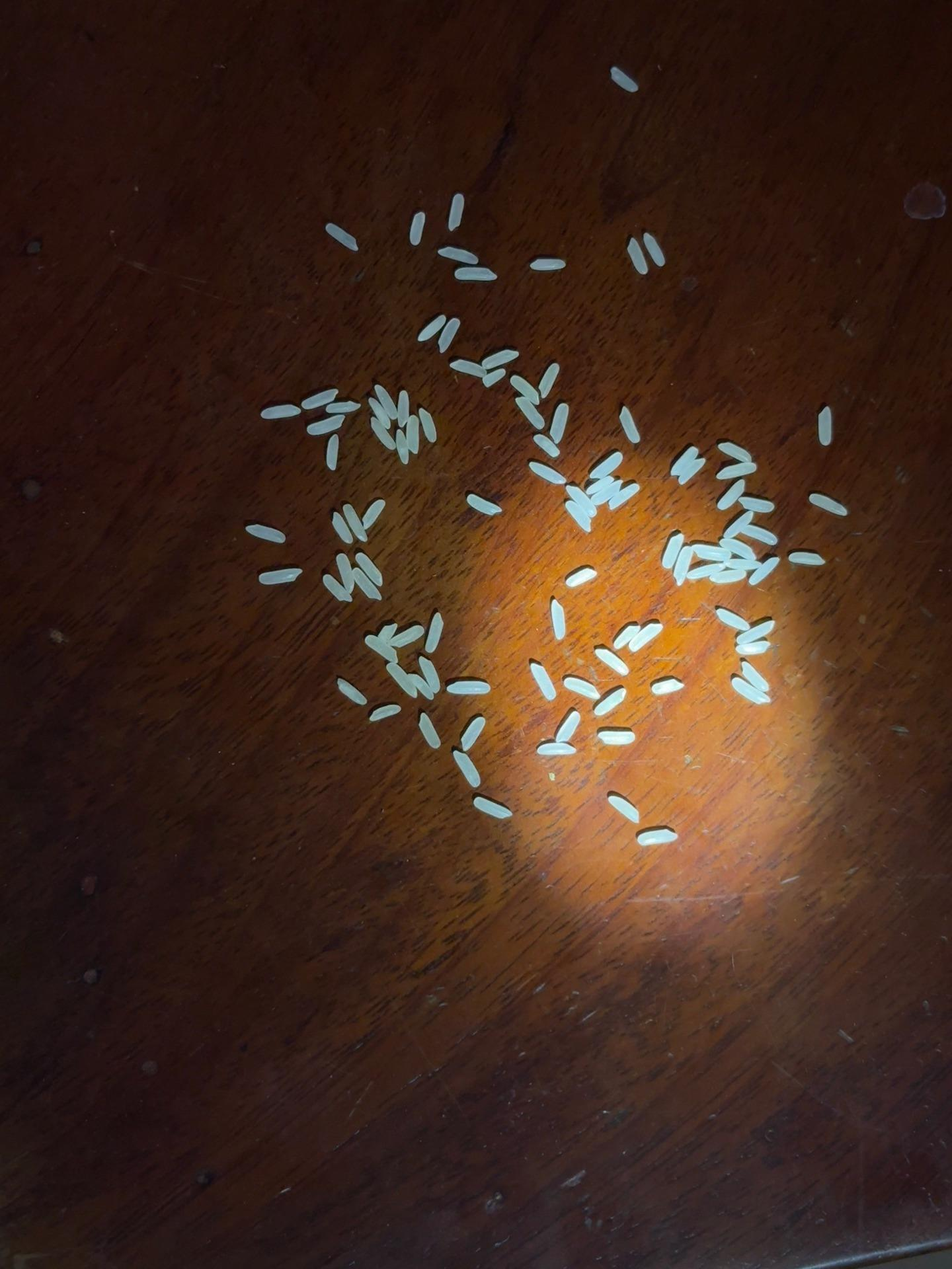Rice-th-y-nh: (387, 663, 417, 698), (453, 750, 481, 787), (530, 663, 557, 700), (566, 485, 597, 517), (629, 623, 663, 652), (733, 678, 770, 704), (326, 223, 359, 252), (365, 635, 399, 663), (342, 504, 367, 542), (736, 621, 775, 645), (516, 397, 545, 429), (590, 452, 623, 480), (672, 546, 695, 586), (595, 648, 629, 675), (510, 375, 540, 405), (353, 569, 382, 600), (594, 689, 627, 716), (356, 553, 383, 586), (749, 557, 780, 585), (718, 479, 746, 510), (723, 511, 754, 539), (741, 661, 769, 692), (418, 657, 442, 693), (809, 494, 848, 516), (625, 238, 648, 275), (720, 538, 757, 561), (461, 717, 486, 751), (323, 574, 352, 603), (374, 385, 398, 420), (670, 447, 698, 477), (608, 796, 639, 823), (474, 797, 512, 819), (418, 713, 441, 749), (564, 677, 600, 700), (555, 711, 580, 744), (609, 484, 640, 510), (425, 613, 445, 653), (643, 232, 666, 266), (337, 679, 367, 705), (550, 404, 570, 443), (336, 554, 356, 593), (308, 415, 345, 436), (370, 418, 395, 449), (566, 501, 591, 532), (591, 481, 622, 506), (662, 534, 684, 569), (438, 246, 478, 265), (246, 524, 286, 543), (716, 608, 749, 631), (619, 407, 640, 443), (530, 463, 566, 484), (678, 458, 706, 485), (550, 599, 568, 640), (539, 363, 560, 398), (610, 67, 638, 93), (438, 319, 460, 352), (302, 389, 338, 409), (390, 626, 424, 647), (718, 442, 752, 463), (259, 568, 301, 585), (408, 673, 434, 700), (418, 316, 446, 341), (743, 525, 778, 545), (467, 495, 501, 515), (362, 499, 385, 528), (717, 462, 756, 479), (332, 513, 353, 544), (482, 350, 518, 368), (693, 545, 731, 562), (447, 680, 490, 695), (369, 398, 390, 428), (688, 562, 723, 580), (450, 360, 487, 377), (614, 625, 640, 649), (537, 741, 576, 757), (419, 408, 437, 442), (448, 194, 465, 230), (455, 267, 497, 281), (261, 404, 300, 419), (638, 830, 677, 845), (818, 407, 833, 445), (409, 212, 426, 245), (739, 497, 774, 513), (598, 730, 635, 745), (534, 435, 559, 457), (566, 569, 596, 587), (710, 569, 746, 584), (369, 705, 401, 721), (395, 430, 410, 464), (727, 557, 761, 572), (586, 477, 614, 495), (406, 416, 419, 454), (652, 679, 684, 694), (397, 391, 410, 426), (736, 642, 770, 655), (789, 552, 825, 564), (327, 435, 339, 470), (483, 369, 505, 387), (530, 259, 565, 270), (326, 402, 360, 413), (377, 624, 397, 642)
